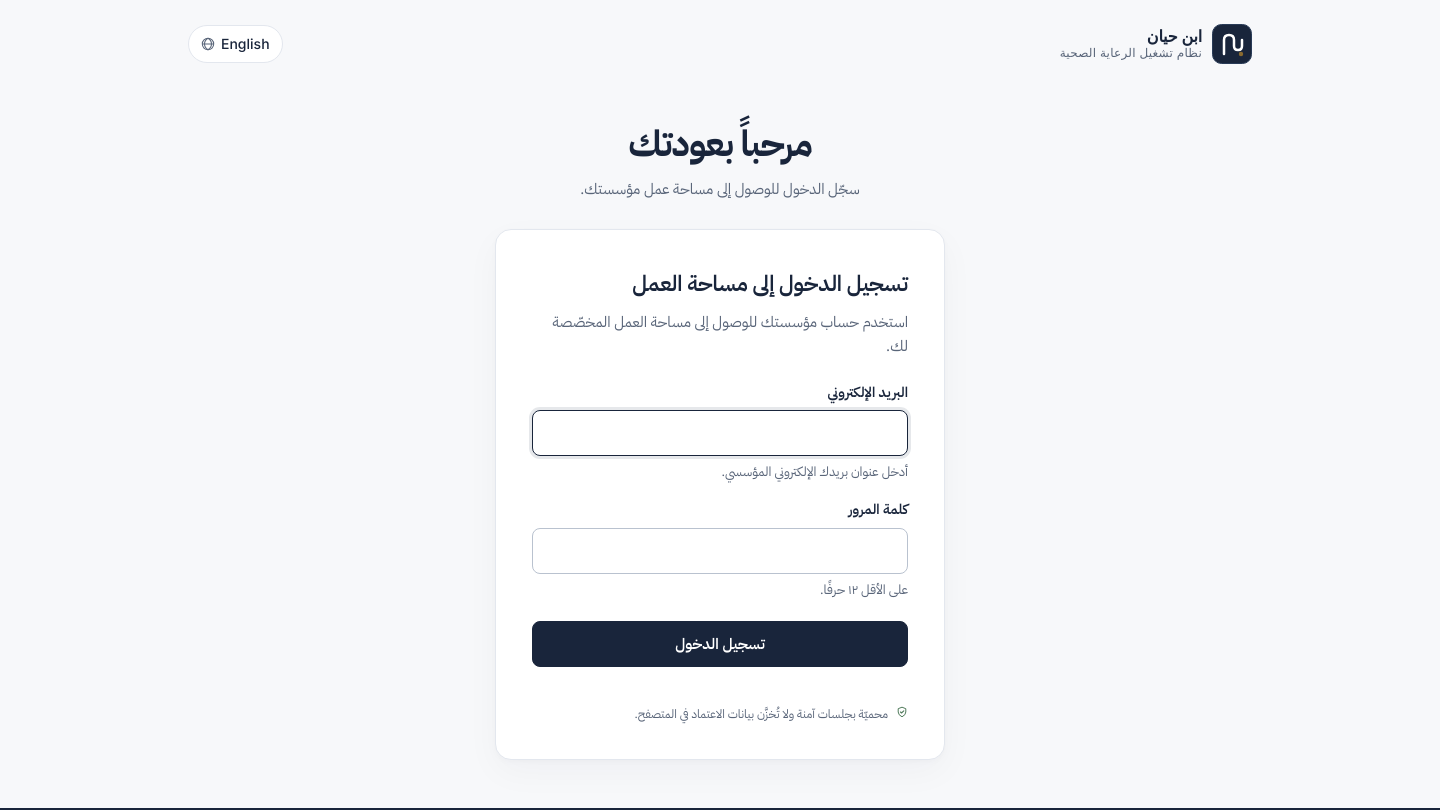
LoginPage (direct-link route) › displays a generic network failure message without infrastructure details
The image size is (1440, 810).
Expected: the button "تسجيل الدخول" is shown, [532, 621, 908, 667]
Type "test@example.invalid" into the field labelled "البريد الإلكتروني" at (720, 433), box [532, 410, 908, 456]
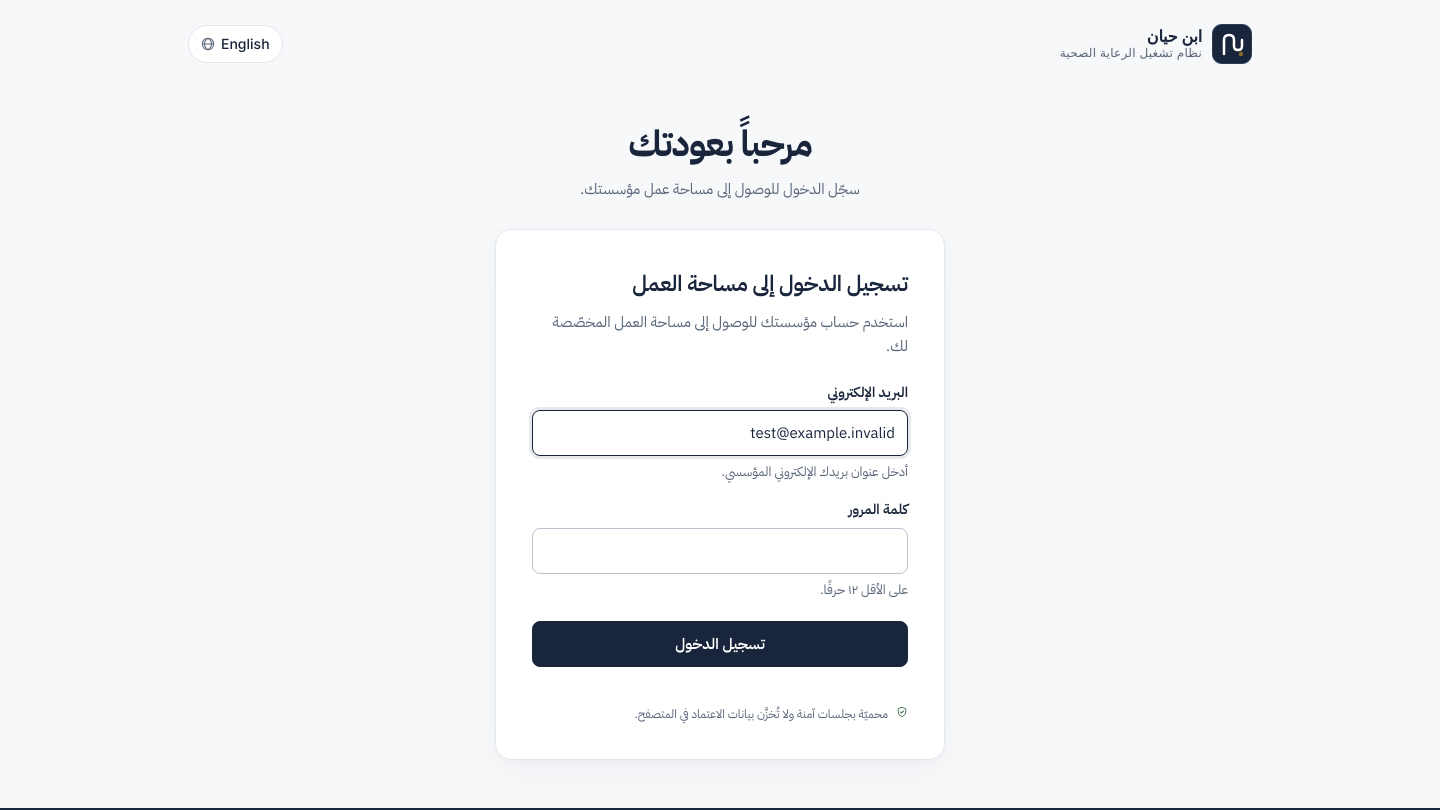
Type "sufficiently-long-password" into the password field labelled "كلمة المرور" at (720, 551), box [532, 528, 908, 574]
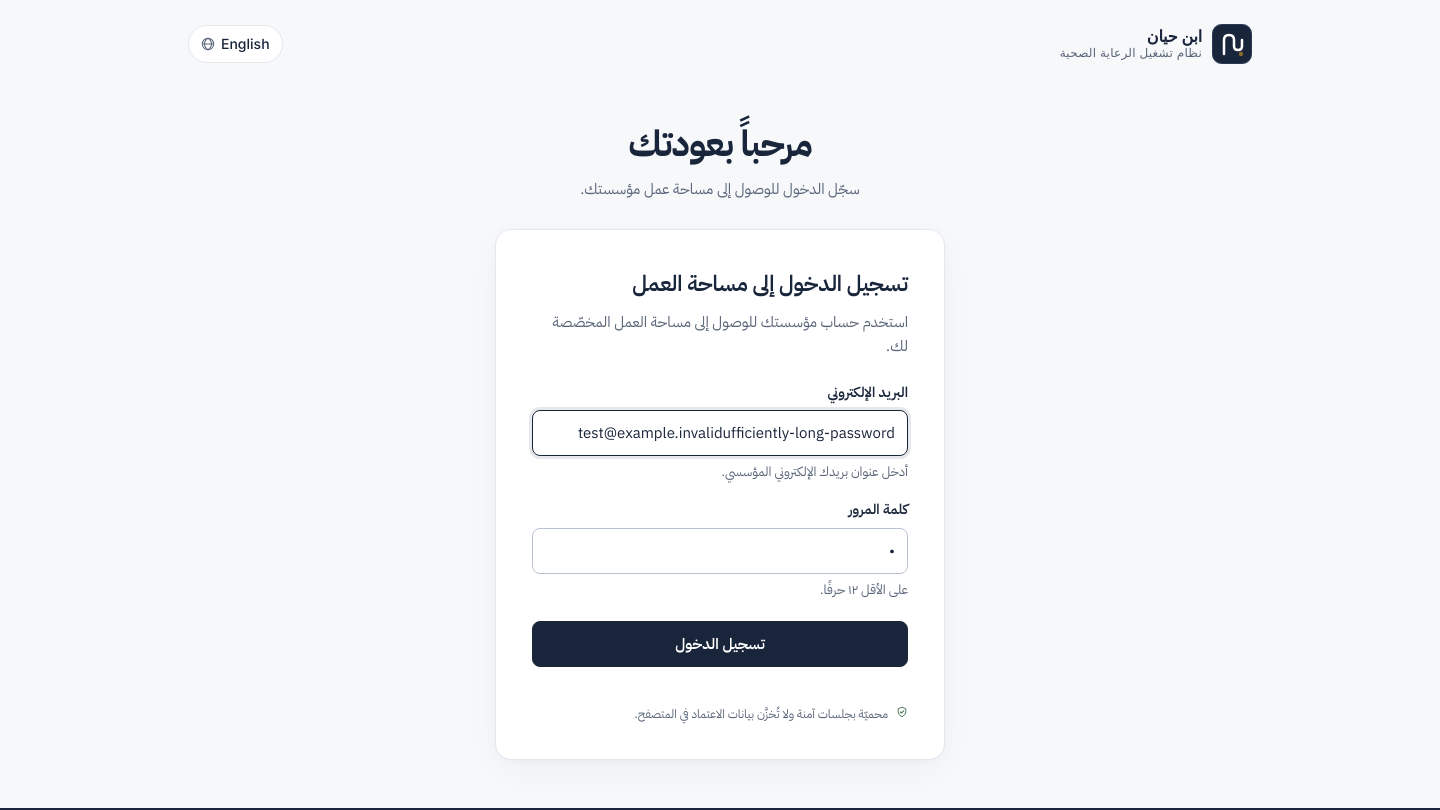
Click the button "تسجيل الدخول" at (720, 644), box [532, 621, 908, 667]
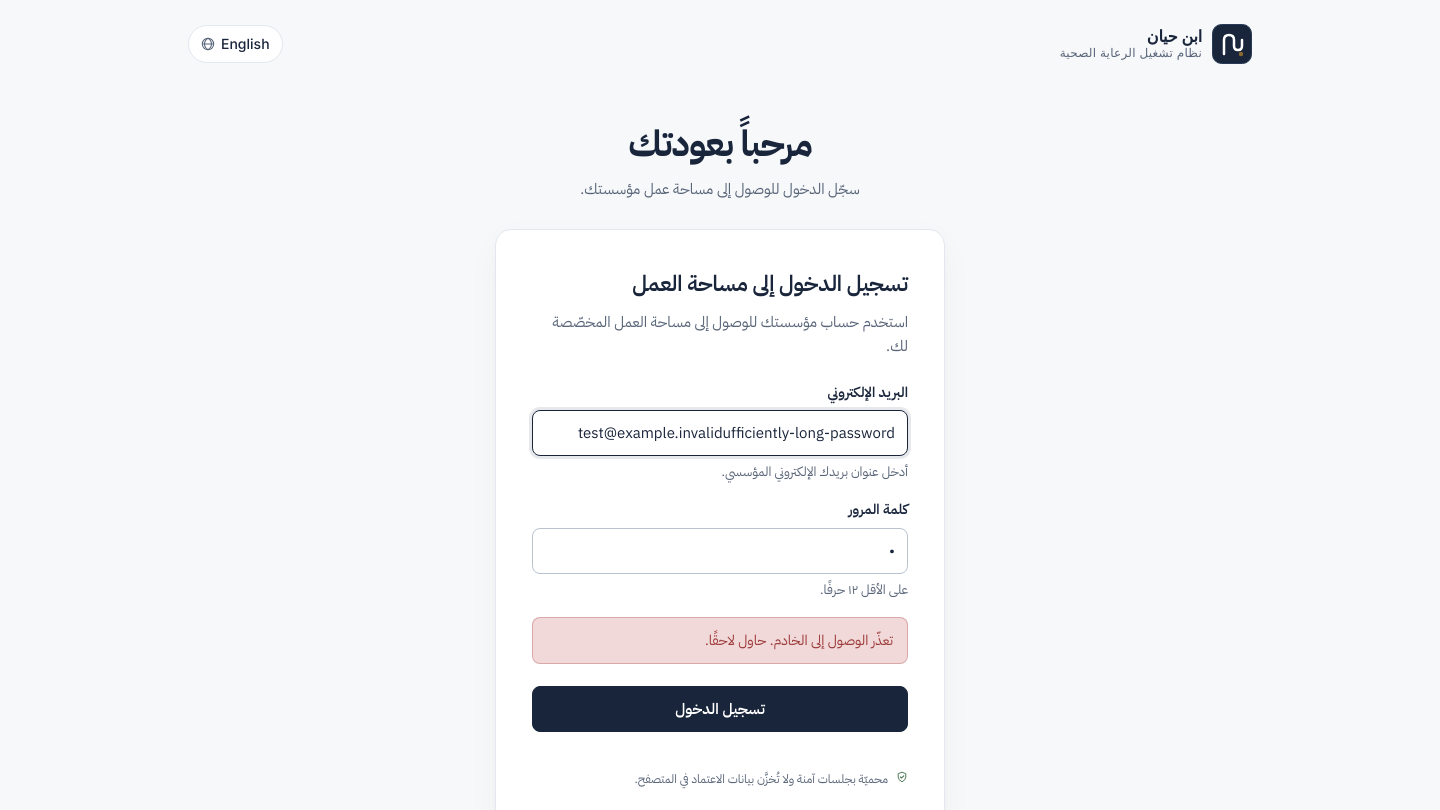
Result: the message shows "تعذّر الوصول إلى الخادم" at [705, 630, 893, 651]
